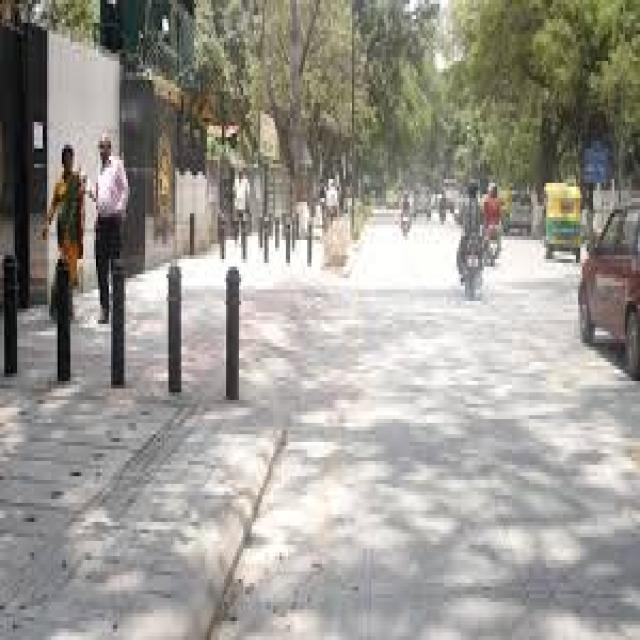auto ahead at: (539, 180, 582, 266)
barrier ahead at: (163, 258, 191, 396), (222, 262, 242, 403), (109, 266, 131, 392), (0, 252, 22, 376)
motorcycle ahead at: (454, 175, 490, 300)
person ahead at: (51, 139, 90, 279), (92, 132, 130, 261)
